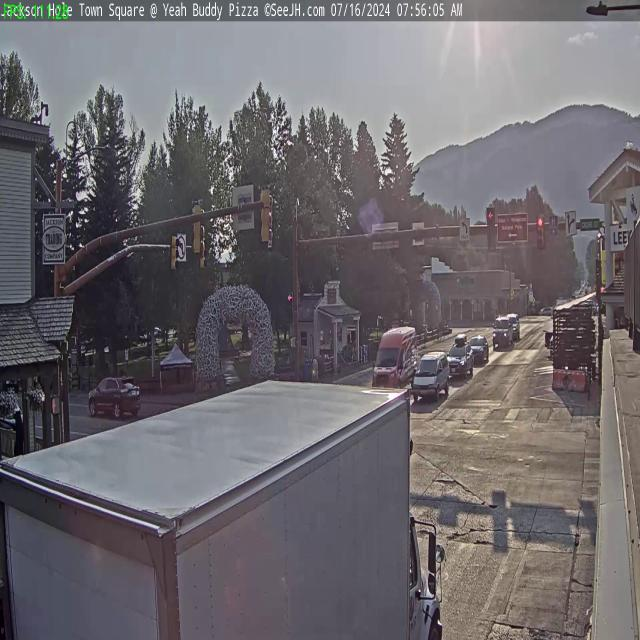sedan: (469, 333, 489, 363)
suv: (88, 374, 141, 421), (411, 349, 450, 402), (448, 341, 476, 384)
traffic light: (190, 199, 203, 256), (260, 185, 272, 244), (486, 207, 496, 256), (170, 235, 178, 272), (536, 214, 544, 249)
van: (372, 327, 416, 395), (491, 316, 514, 348)
